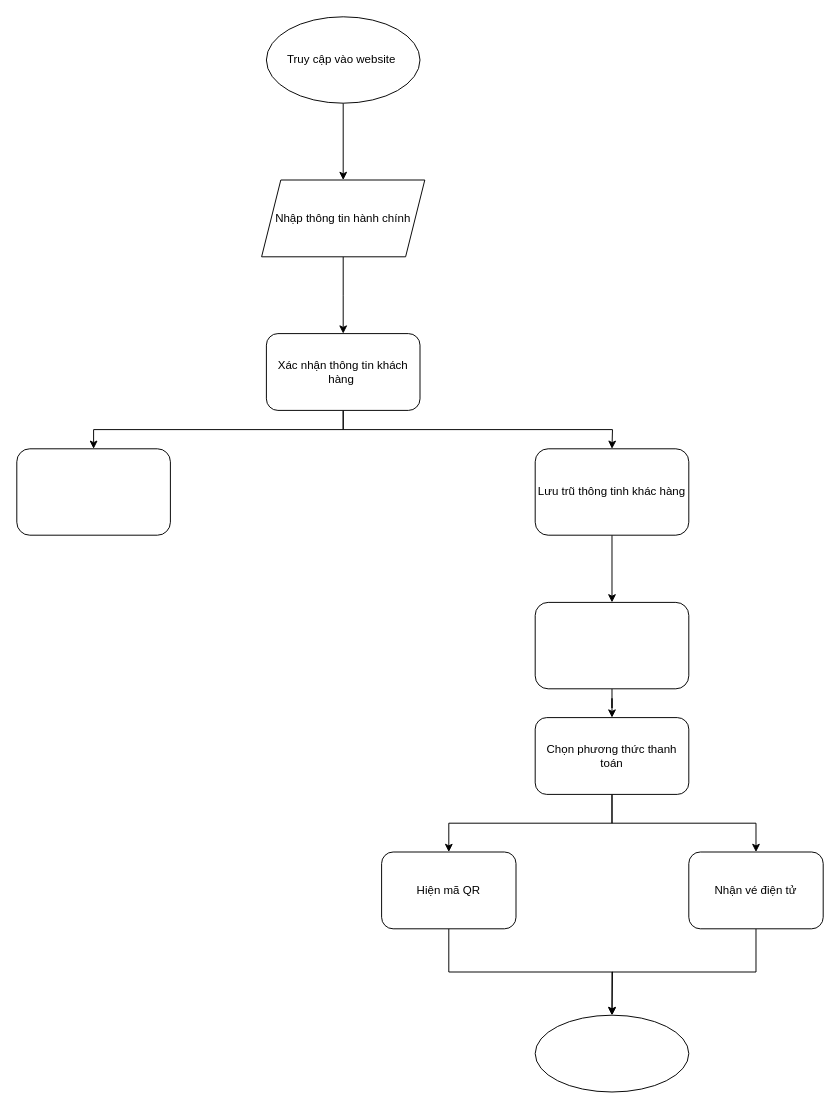
Some shapes in this 840 by 1109 pixel diagram are drawn without their labels. The box of each missing label's shape, as (x1, y1, x2, y2) in pixels:
Khách hàng nhập thông tin dịch vụ cần thiét: (534, 601, 689, 689)
Thông báo thông tin sai: (16, 448, 170, 535)
Xác nhận thanh toán thành công: (534, 1014, 689, 1092)
